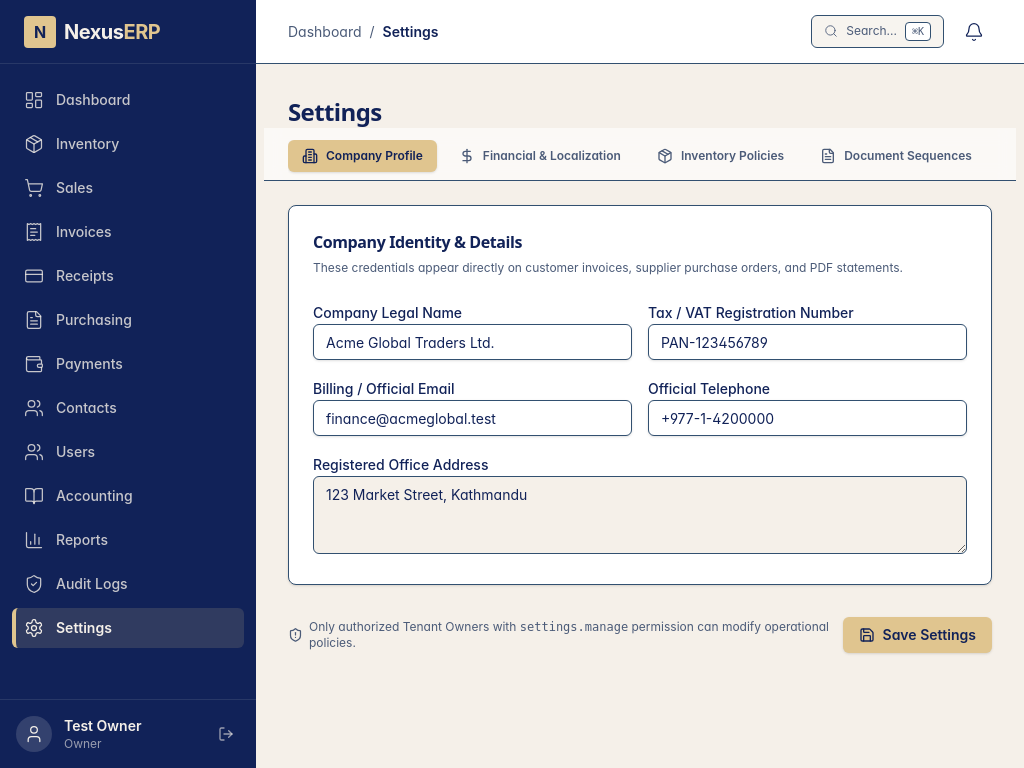
Scenario: SettingsIndex Component › switches between tabs and displays the respective configuration sections
# Switch to Financial & Localization
Click the button "Financial & Localization".
click(540, 156)  # box x1=445 y1=140 x2=635 y2=172
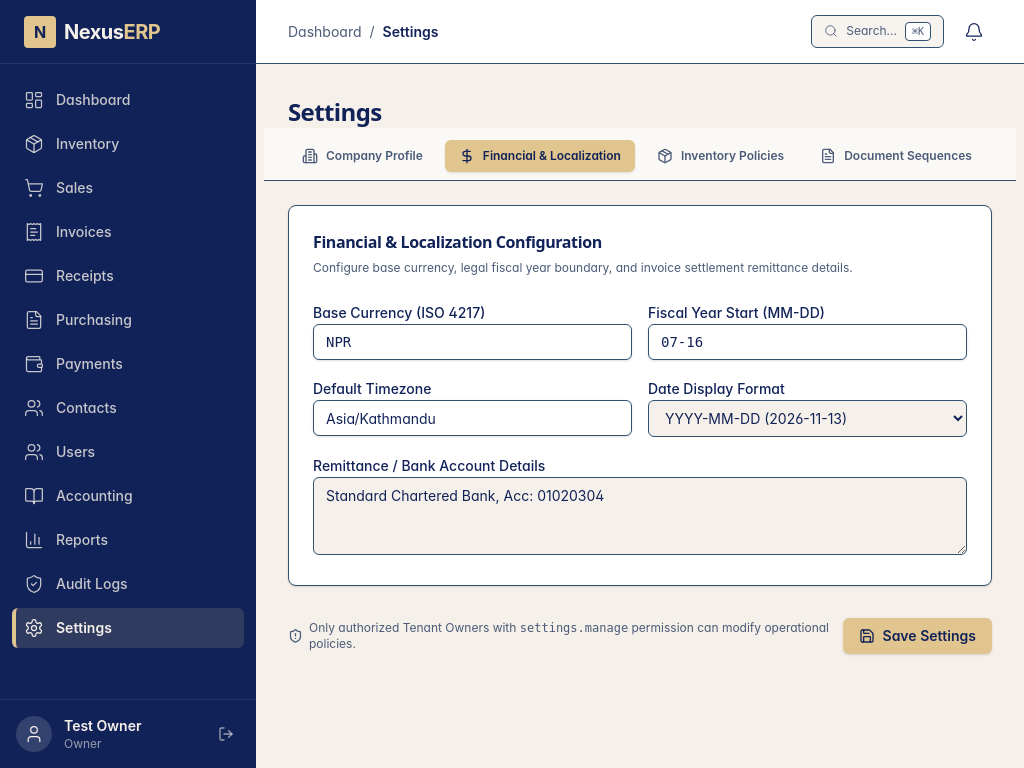
Expected: the field labelled "Base Currency (ISO 4217)" is shown, x1=313 y1=324 x2=632 y2=360
Expected: the field labelled "Default Timezone" is shown, x1=313 y1=400 x2=632 y2=436
Expected: the field labelled "Fiscal Year Start (MM-DD)" is shown, x1=648 y1=324 x2=967 y2=360
# Switch to Inventory Policies
Click the button "Inventory Policies".
click(721, 156)  # box x1=643 y1=140 x2=798 y2=172
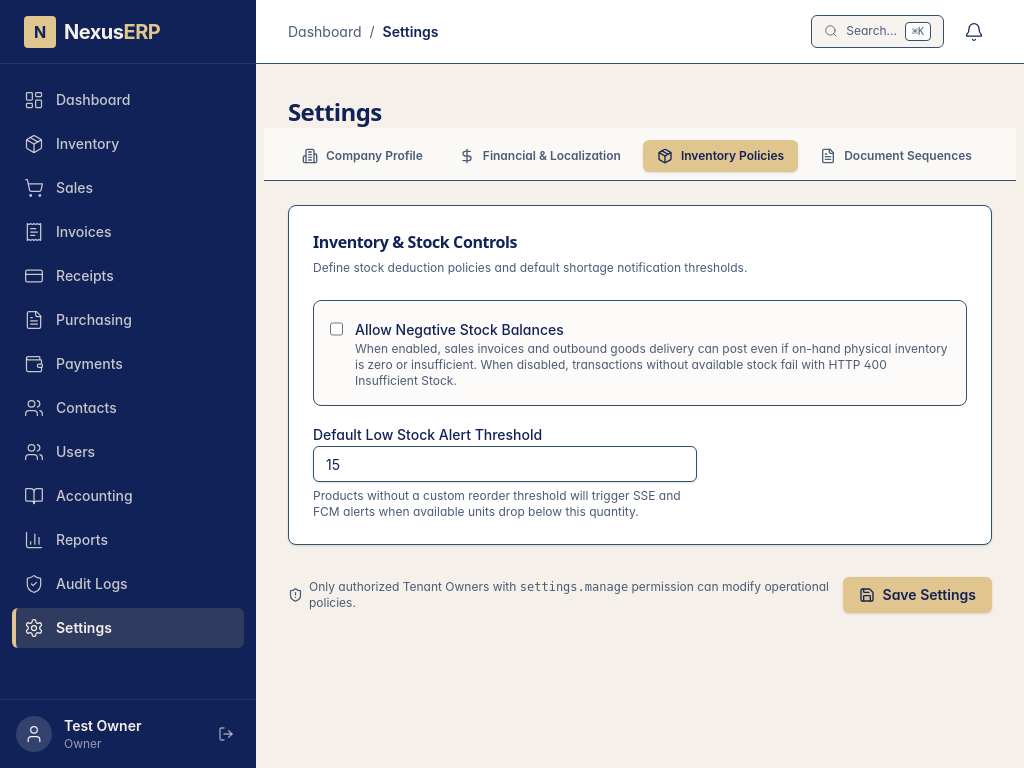
Expected: the checkbox labelled "Allow Negative Stock Balances" is shown, x1=330 y1=321 x2=343 y2=337
Expected: the number field labelled "Default Low Stock Alert Threshold" is shown, x1=313 y1=446 x2=697 y2=482
# Switch to Document Sequences
Click the button "Document Sequences".
click(896, 156)  # box x1=806 y1=140 x2=986 y2=172
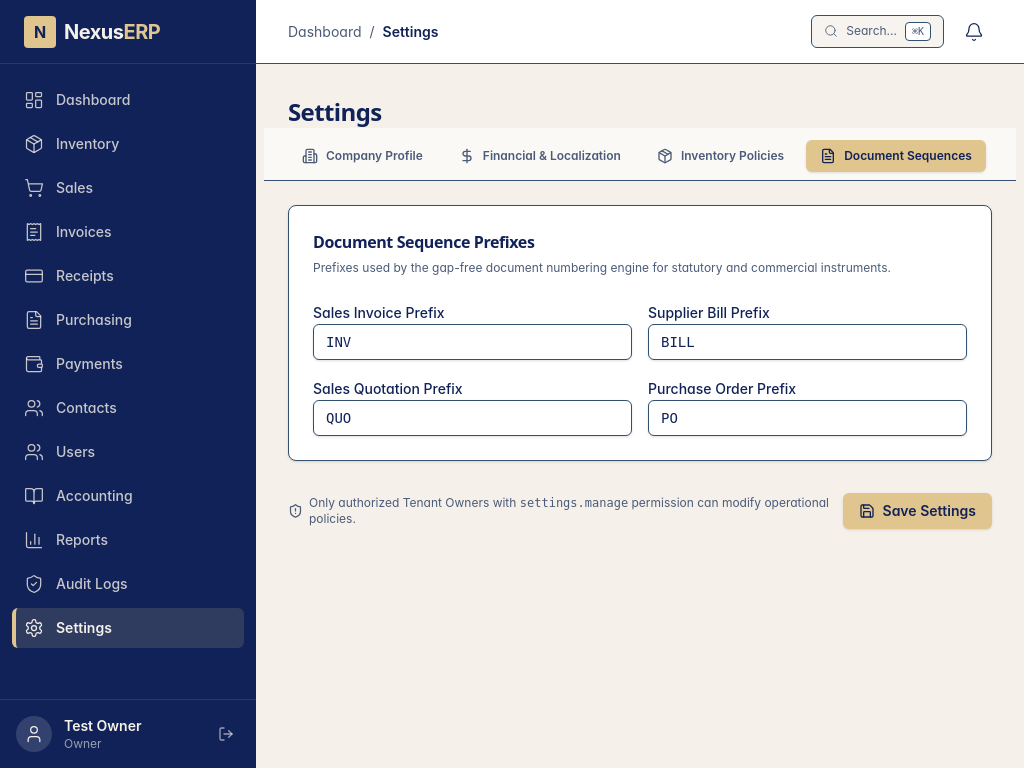
Expected: the field labelled "Sales Invoice Prefix" is shown, x1=313 y1=324 x2=632 y2=360
Expected: the field labelled "Supplier Bill Prefix" is shown, x1=648 y1=324 x2=967 y2=360
Expected: the field labelled "Sales Quotation Prefix" is shown, x1=313 y1=400 x2=632 y2=436
